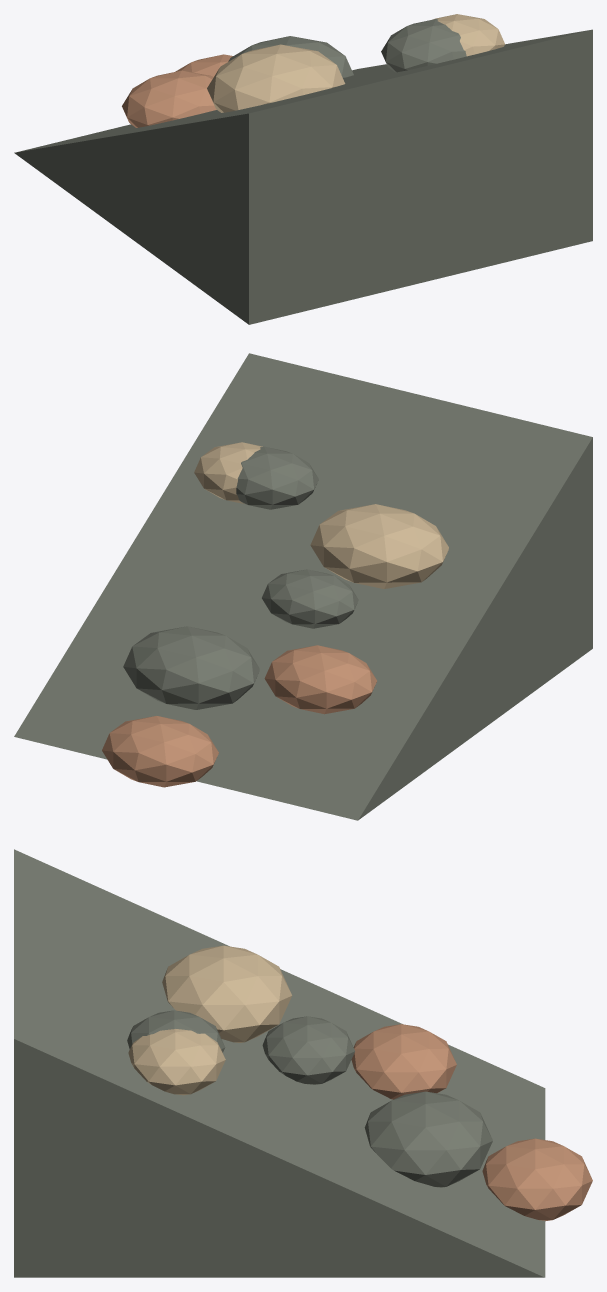
The model's file is debris_ramp_05.glb.
3 views of the same model, one above another, from view 1: azimuth 30°, elevation 25°; view 2: azimuth 150°, elevation 25°; view 3: azimuth 270°, elevation 25° (orthographic). The views are drawn at different scales.
Parts seen in each view (by area): view 1: core, lump4, lump5, lump6, lump1, lump0, lump2; view 2: core, lump4, lump0, lump2, lump5, lump3, lump6, lump1; view 3: core, lump0, lump4, lump2, lump5, lump1, lump3, lump6.
Part boxes in pixels (<box>): core: <box>14,29,592,324</box>; lump4: <box>207,44,345,112</box>; lump5: <box>122,70,216,127</box>; lump6: <box>381,19,466,72</box>; lump1: <box>433,14,505,56</box>; lump0: <box>228,36,353,78</box>; lump2: <box>175,54,232,76</box>; core: <box>14,353,592,820</box>; lump4: <box>310,504,448,588</box>; lump0: <box>123,626,259,709</box>; lump2: <box>102,716,218,787</box>; lump5: <box>264,645,376,714</box>; lump3: <box>262,569,358,628</box>; lump6: <box>236,446,318,509</box>; lump1: <box>194,442,262,503</box>; core: <box>14,849,545,1277</box>; lump0: <box>364,1091,492,1187</box>; lump4: <box>162,945,292,1042</box>; lump2: <box>482,1138,592,1221</box>; lump5: <box>351,1024,456,1099</box>; lump1: <box>128,1029,225,1095</box>; lump3: <box>262,1016,354,1084</box>; lump6: <box>127,1010,225,1052</box>.
Size of the model in its own units: 1.14 by 0.7055 by 1.47.
